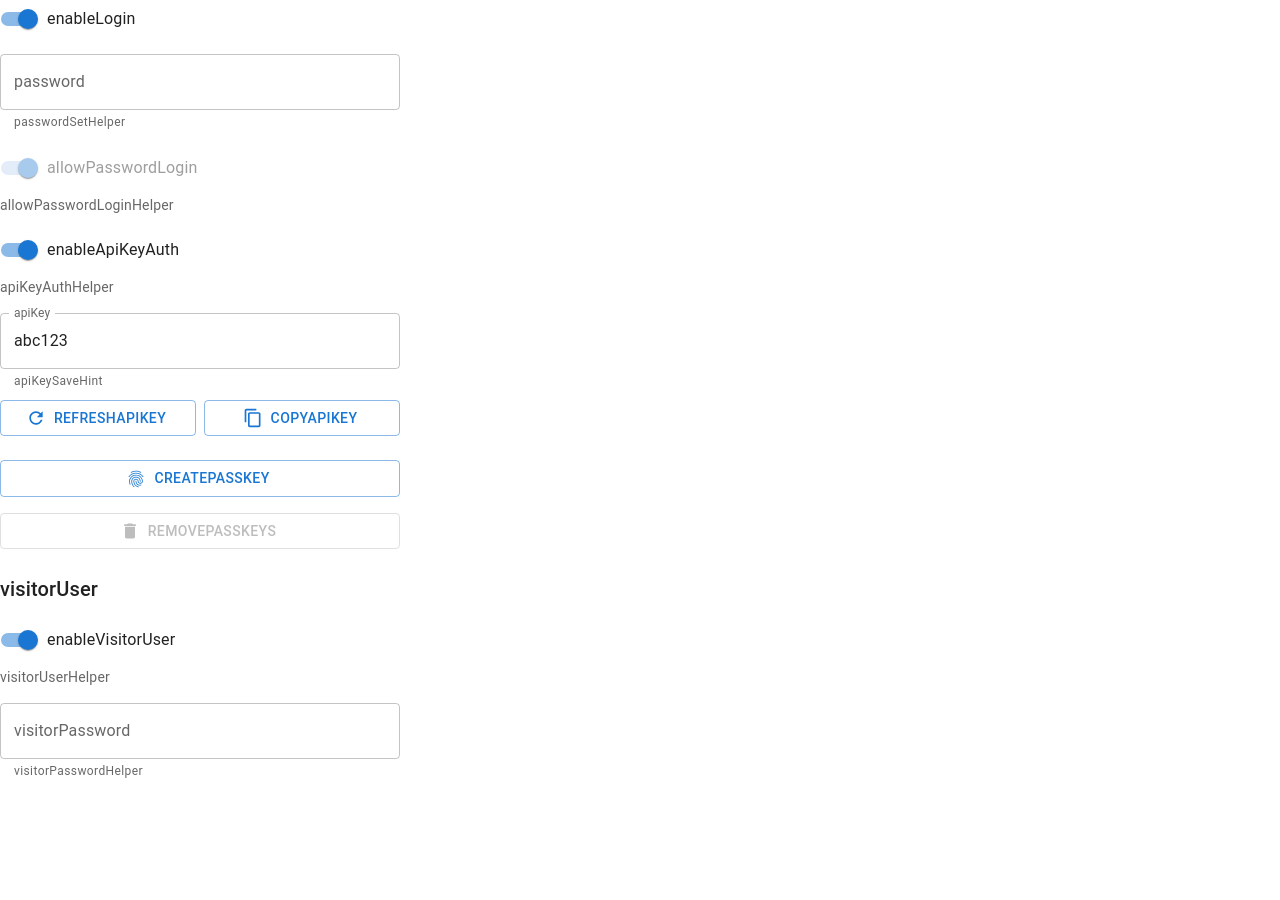
SecuritySettings › copies the api key to the clipboard and shows a success alert
Click the button "copyApiKey": (302, 418) [204,400,400,436]
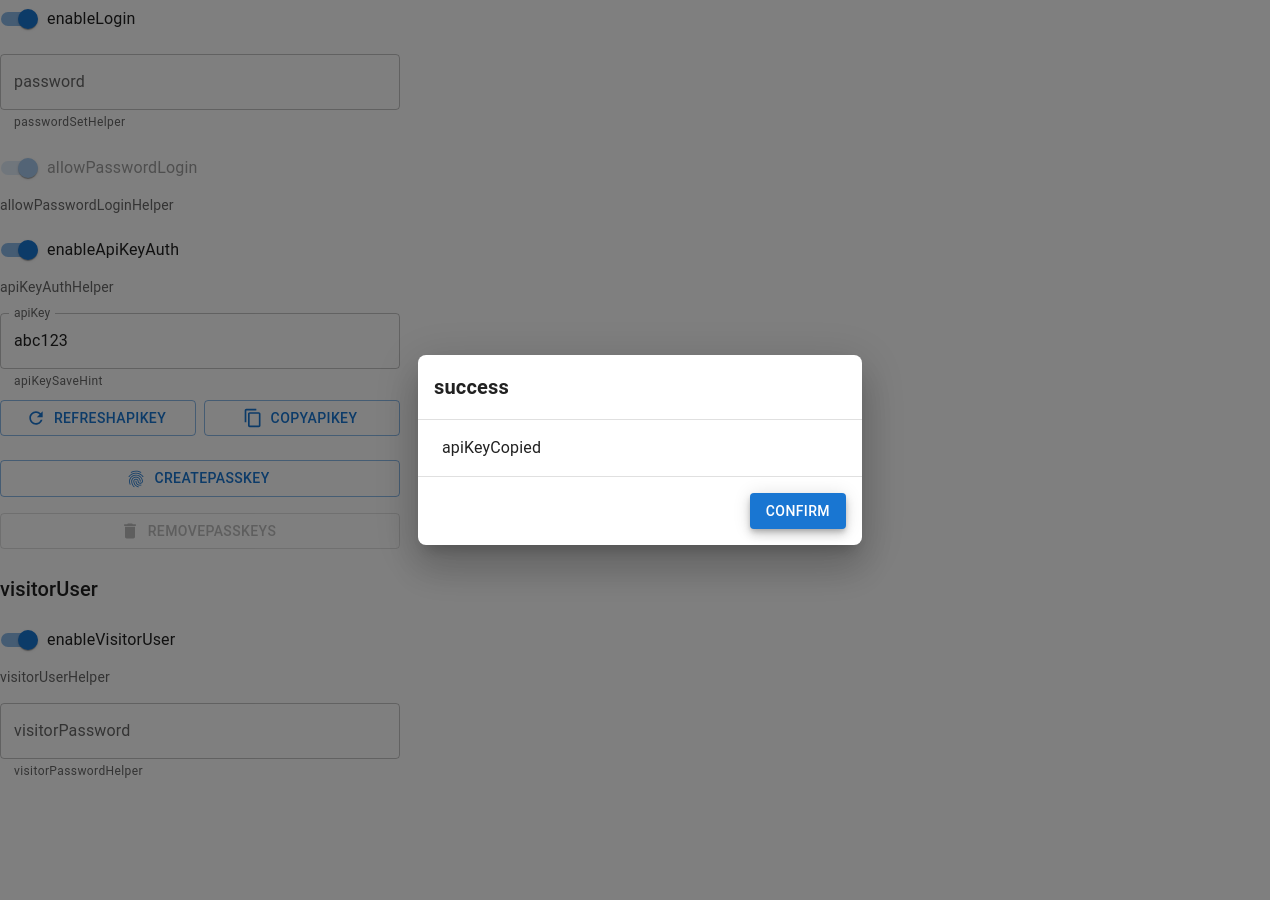
Expected: the text "apiKeyCopied" is shown, [442,438,541,457]
